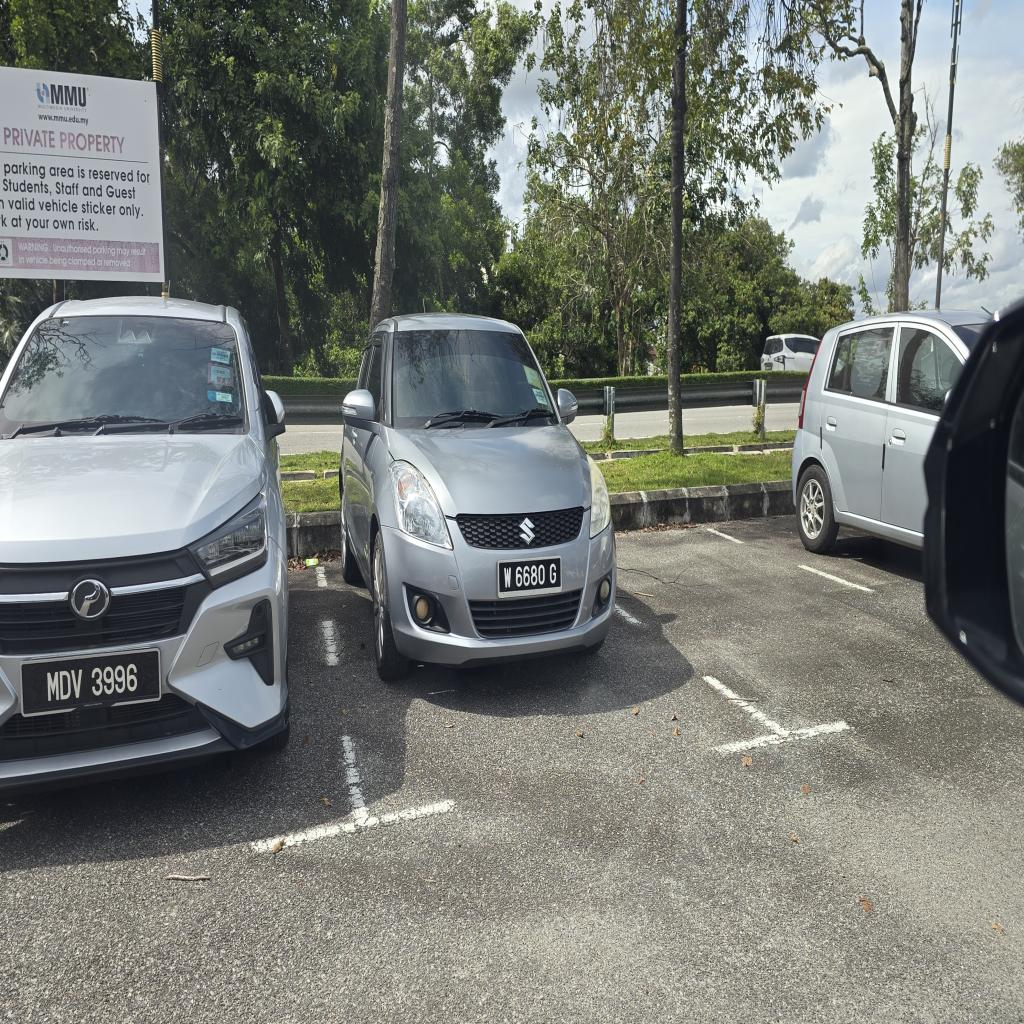car: (0, 297, 288, 788), (340, 315, 615, 679)
car plate: (22, 650, 159, 716), (498, 557, 561, 597)
